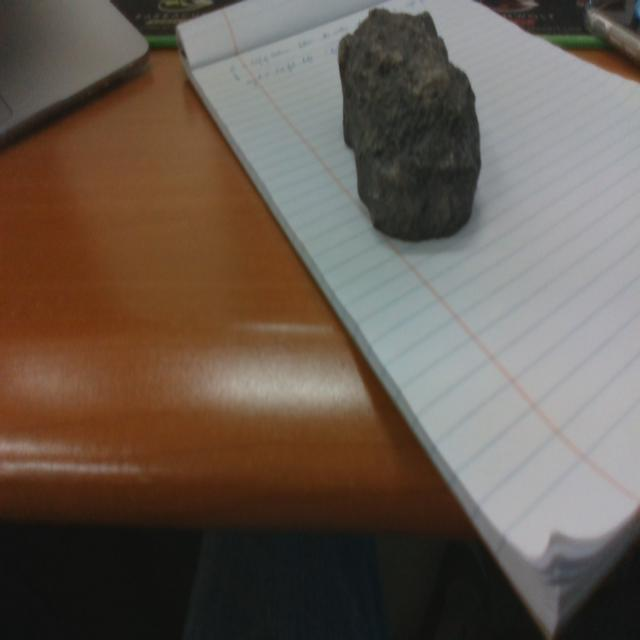stone: (338, 5, 481, 242)
